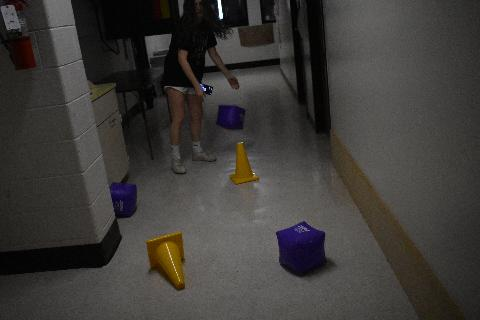cone: (145, 230, 185, 290), (230, 141, 260, 185)
cube: (276, 220, 328, 276), (110, 181, 138, 217), (216, 104, 246, 130)
